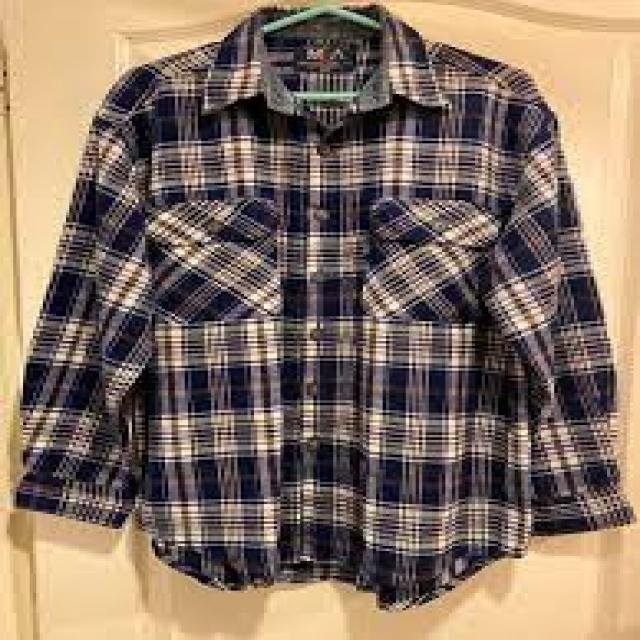plaid: (44, 27, 633, 610)
